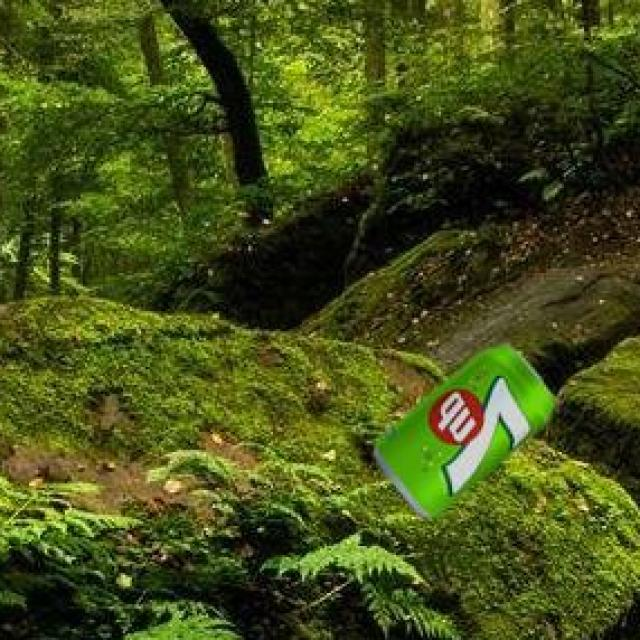logam: (377, 341, 561, 514)
